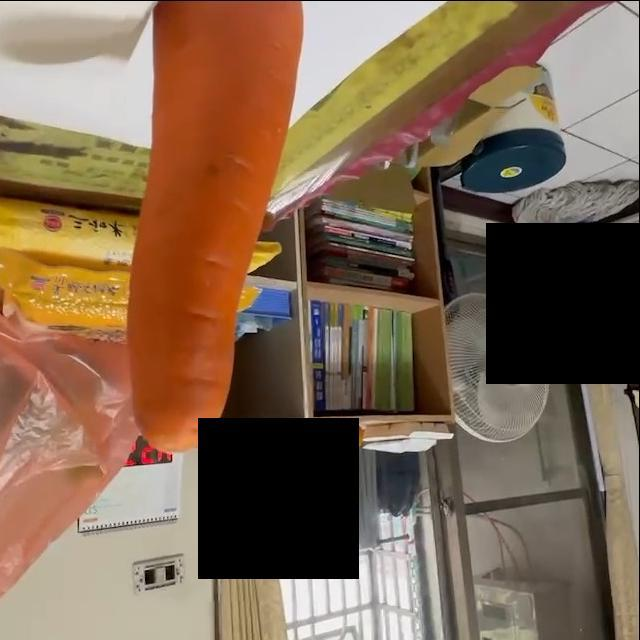carrot: (132, 1, 308, 451)
